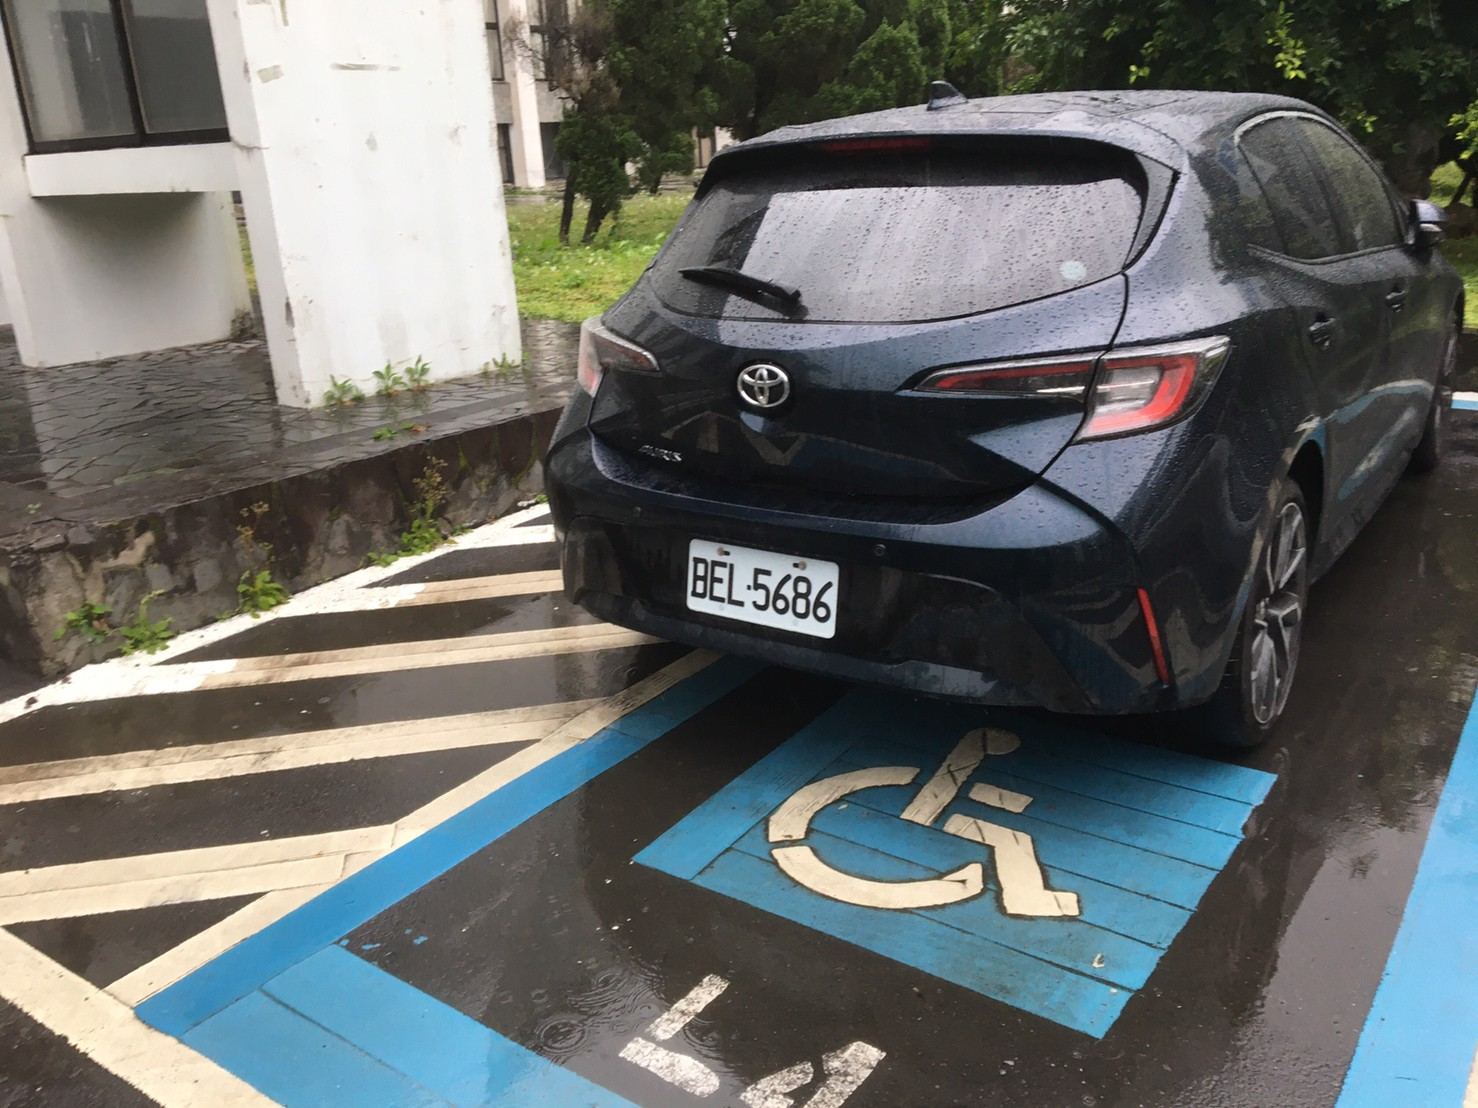LP: (680, 542, 836, 619)
